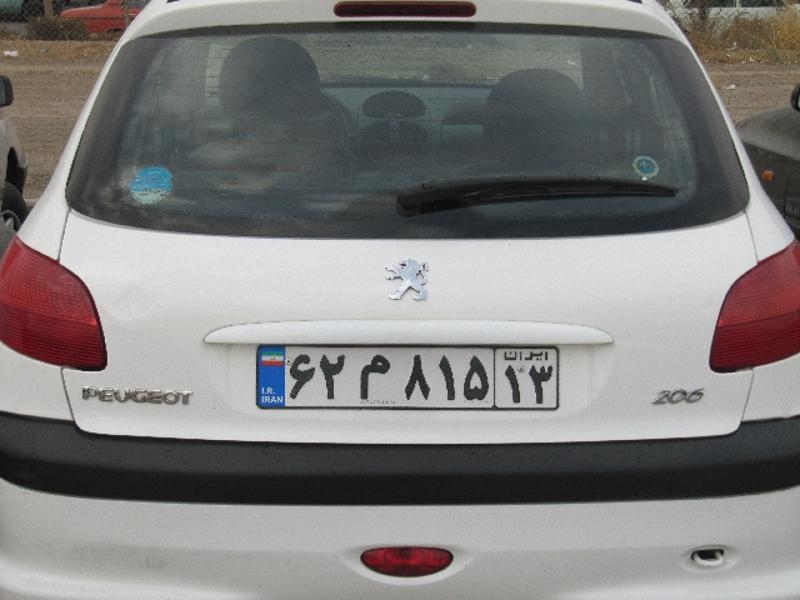Plate: (257, 345, 561, 409)
